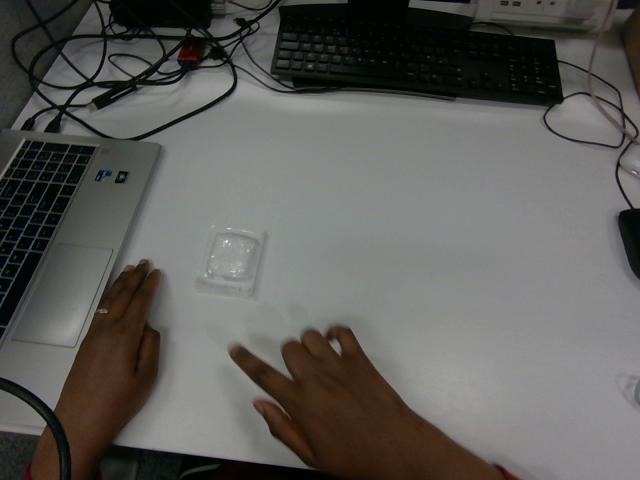gauze: (196, 227, 264, 297)
